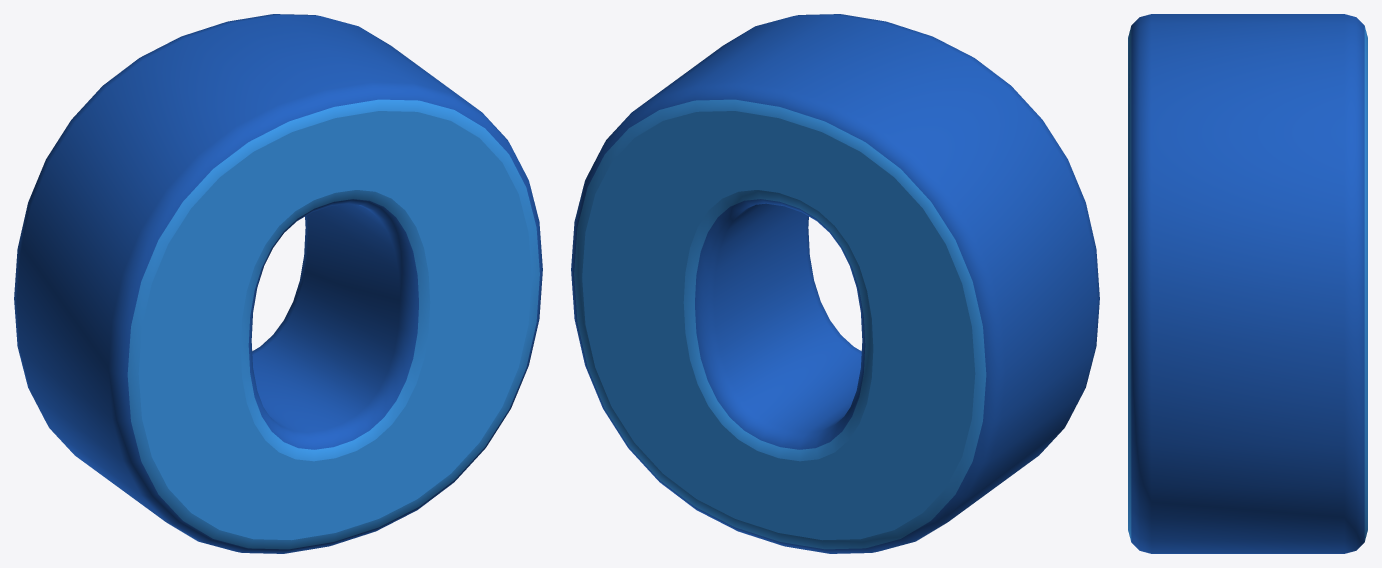
The model's file is letter_O_blue.glb.
The picture shows the model from 3 angles, left to right: view 1: azimuth 30°, elevation 25°; view 2: azimuth 150°, elevation 25°; view 3: azimuth 270°, elevation 25°; orthographic projection. The views are drawn at different scales.
Visible parts, largest first — view 1: MOBP_letter_O_blue; view 2: MOBP_letter_O_blue; view 3: MOBP_letter_O_blue.
Part boxes in pixels (bbox=[...]): MOBP_letter_O_blue: bbox=[14, 14, 542, 553]; MOBP_letter_O_blue: bbox=[571, 14, 1099, 553]; MOBP_letter_O_blue: bbox=[1128, 14, 1367, 553].
Size of the model in its own units: 0.0843 by 0.085 by 0.0384.
